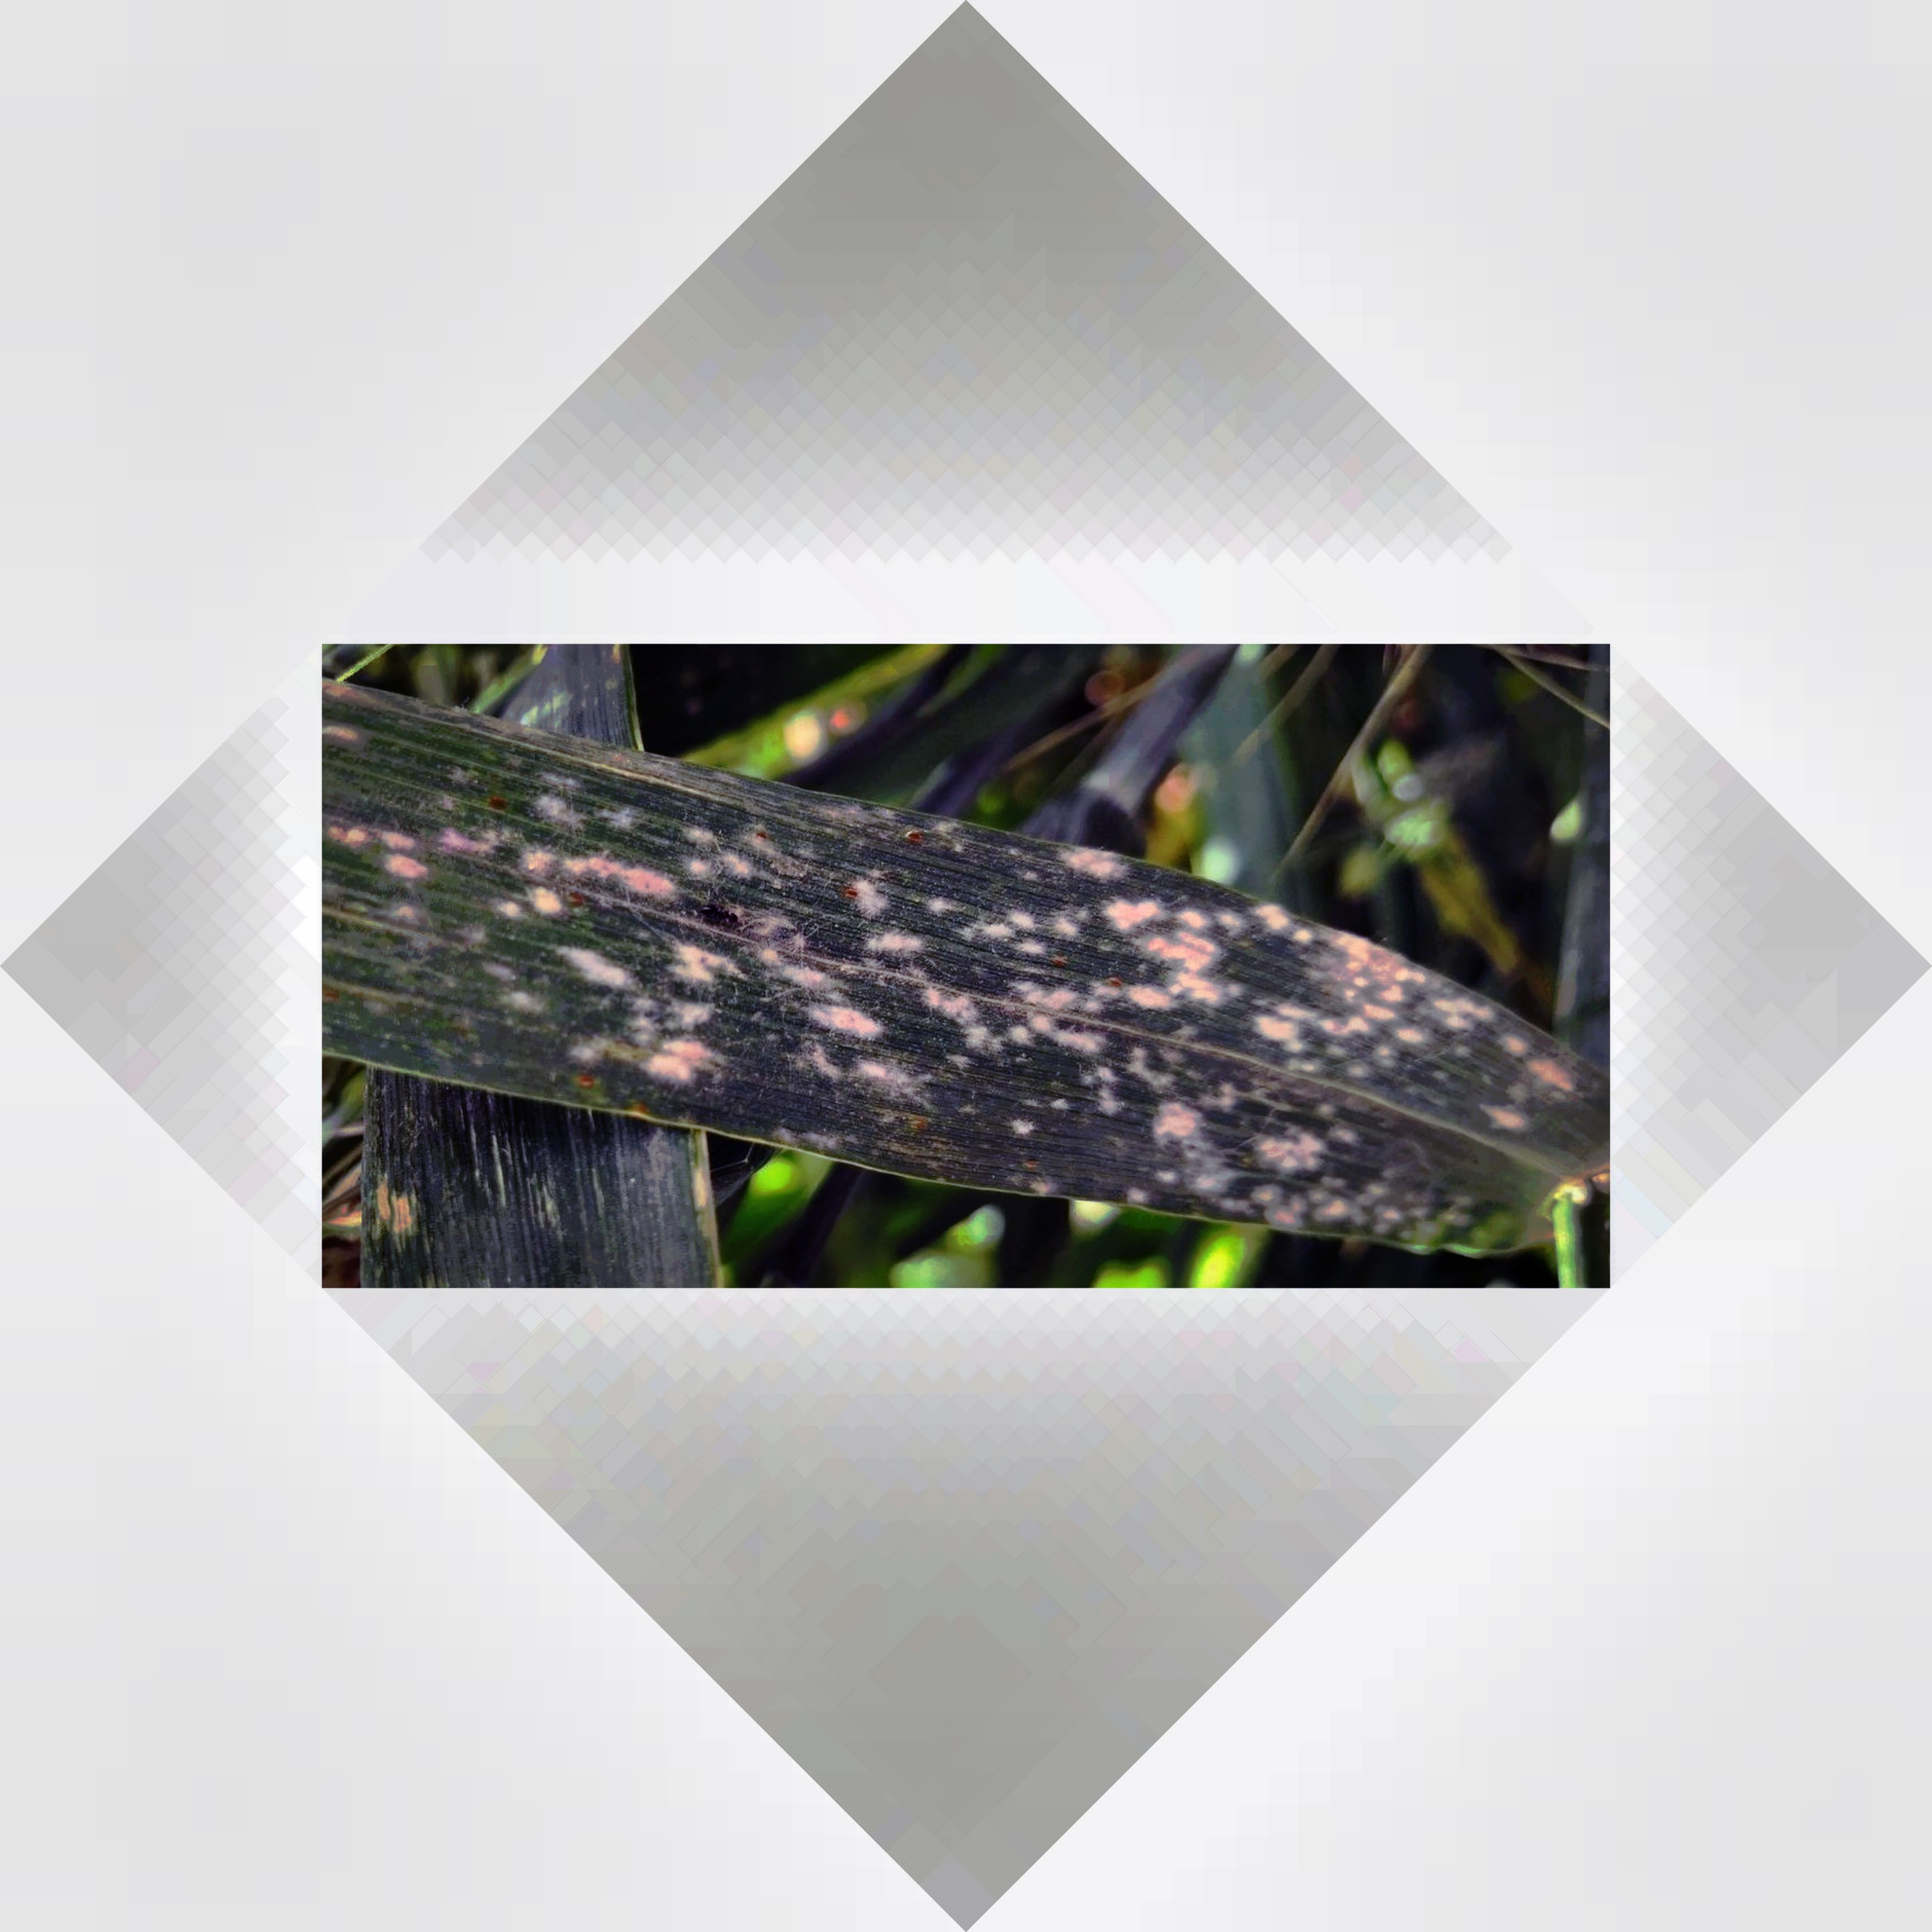Powdery Mildew: (513, 778, 1442, 1233)
